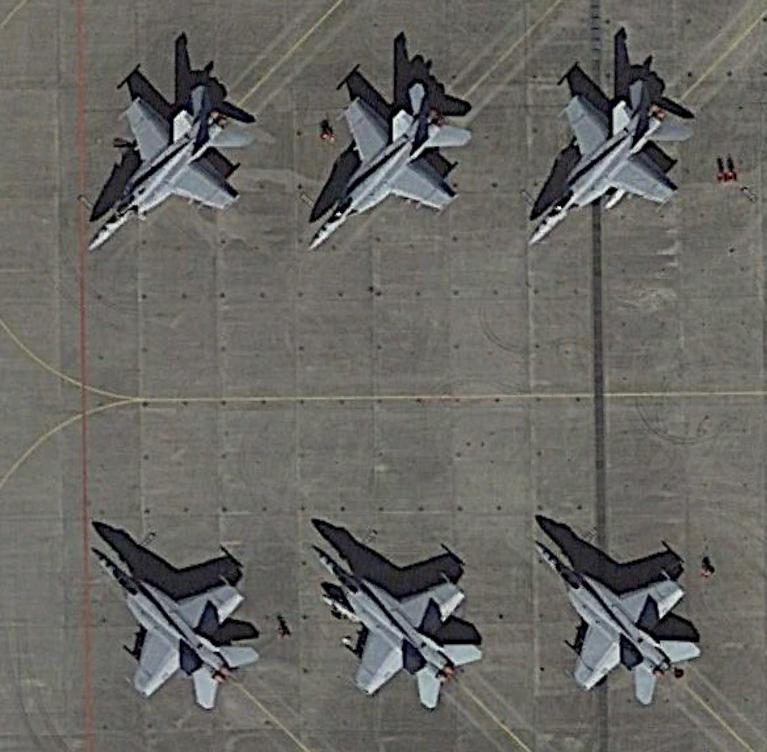A16: (84, 71, 261, 267), (295, 65, 472, 261), (524, 56, 701, 252), (86, 518, 263, 714), (307, 518, 484, 714), (525, 523, 702, 719)
